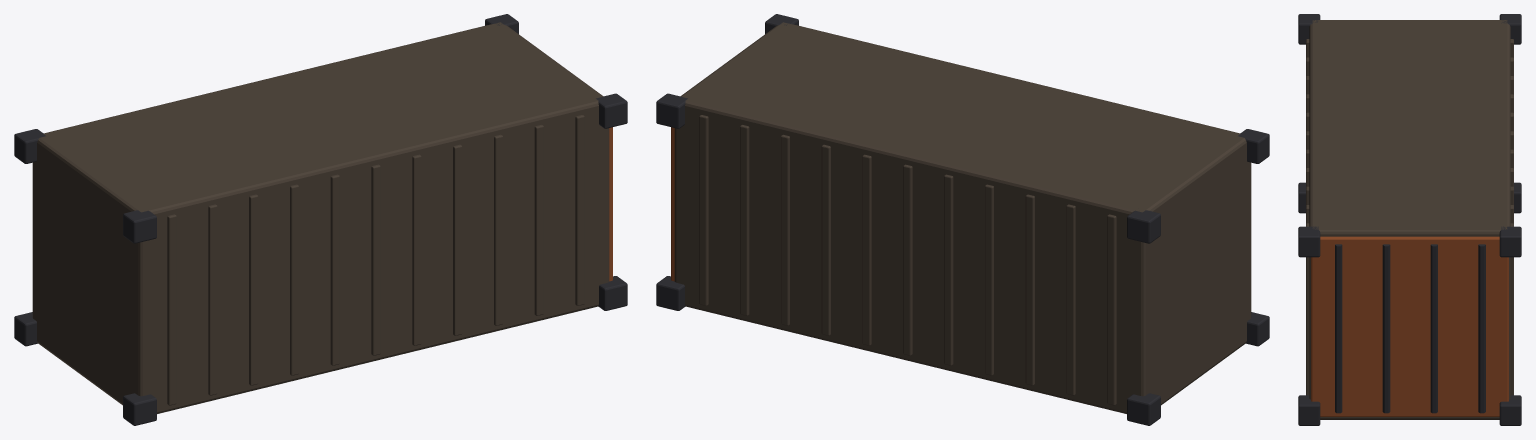
The model's file is container_0.glb.
3 views of the same model, side by side, from view 1: azimuth 30°, elevation 25°; view 2: azimuth 150°, elevation 25°; view 3: azimuth 270°, elevation 25° (orthographic). The views are drawn at different scales.
Parts seen in each view (by area): view 1: container; view 2: container; view 3: container.
Part boxes in pixels (box(x1,y1,x2,y2)): container: box(14, 14, 627, 425); container: box(656, 14, 1269, 425); container: box(1298, 14, 1521, 425).
Size of the model in its own units: 6.3 by 2.5 by 2.66.
